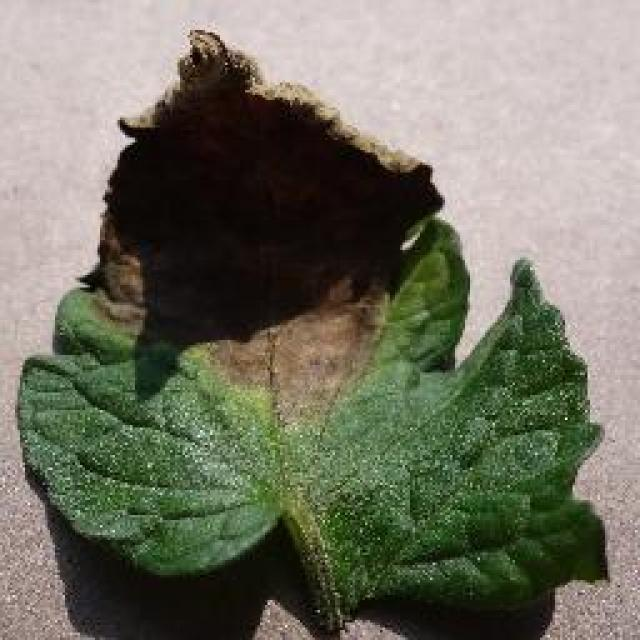Tomato late blight leaf: (19, 23, 614, 615)
